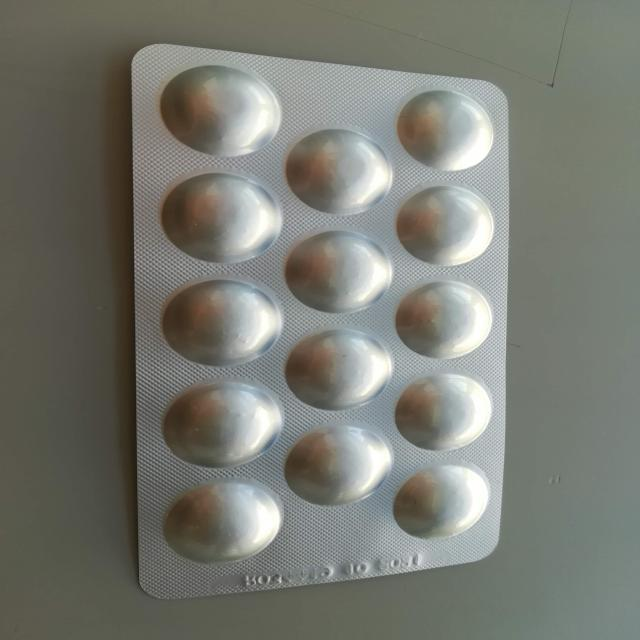Pill: (158, 60, 284, 162), (161, 170, 283, 266), (161, 378, 283, 471), (163, 474, 284, 567), (161, 277, 283, 369), (285, 126, 394, 217), (284, 229, 393, 315), (285, 326, 393, 412), (286, 422, 393, 508), (396, 86, 496, 173), (395, 183, 496, 268), (395, 278, 496, 361), (397, 372, 495, 453), (396, 462, 491, 540)
